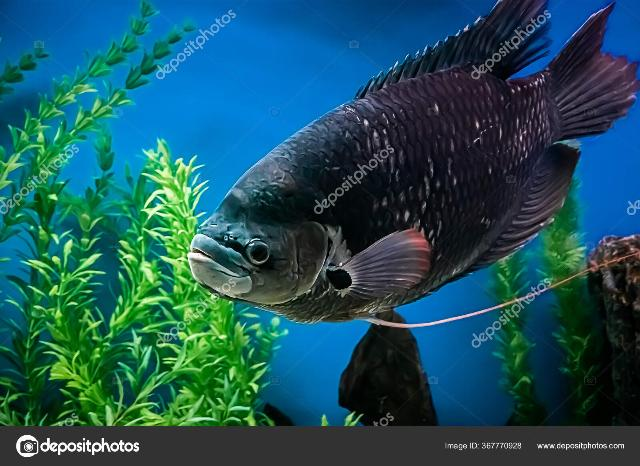Mulut: (163, 216, 265, 306)
Sirip Anal: (467, 139, 599, 273)
Sirip Dada: (311, 211, 445, 323)
Sirip Ekor: (546, 1, 640, 154)
Sirip Punggung: (335, 0, 557, 110)
